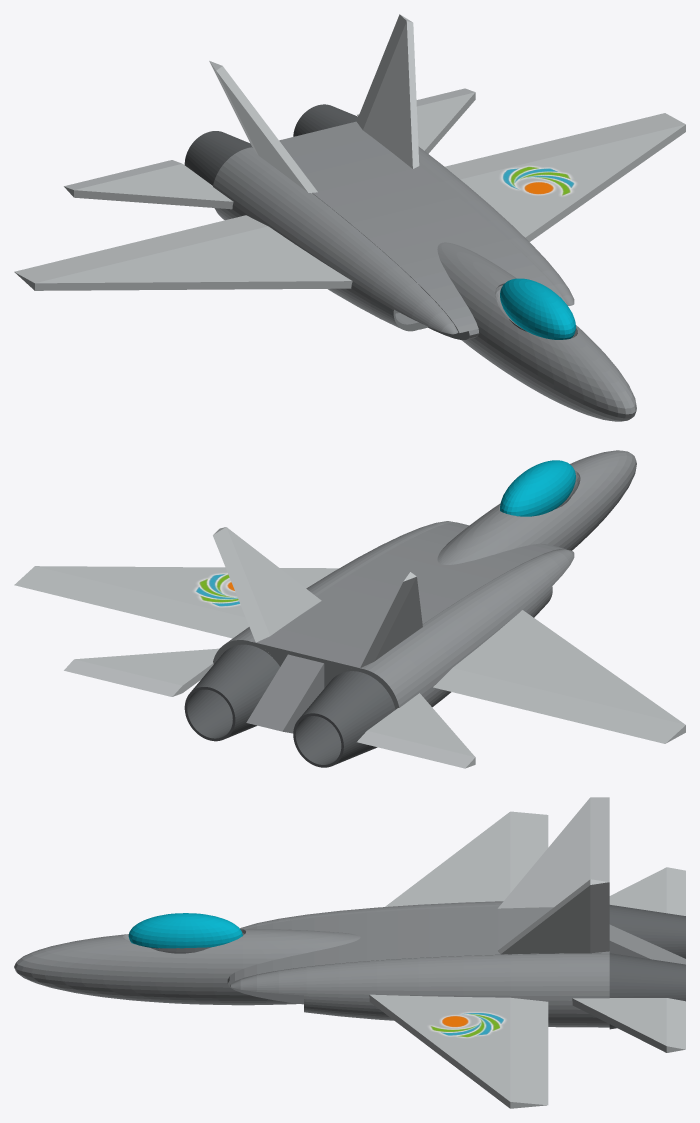
3 renders of one model, top to bottom at view 1: azimuth 30°, elevation 25°; view 2: azimuth 150°, elevation 25°; view 3: azimuth 270°, elevation 25°, orthographic. The views are drawn at different scales.
Parts seen in each view (by area): view 1: Mesh_Mesh_head_geo.001_lambert2SG.001, Yongkang_District_Fusing_Elementary_School_logo; view 2: Mesh_Mesh_head_geo.001_lambert2SG.001, Yongkang_District_Fusing_Elementary_School_logo; view 3: Mesh_Mesh_head_geo.001_lambert2SG.001, Yongkang_District_Fusing_Elementary_School_logo.
Part boxes in pixels (x1,y1,x2,y2): Mesh_Mesh_head_geo.001_lambert2SG.001: (14, 14, 685, 421); Yongkang_District_Fusing_Elementary_School_logo: (500, 165, 576, 196); Mesh_Mesh_head_geo.001_lambert2SG.001: (14, 450, 685, 768); Yongkang_District_Fusing_Elementary_School_logo: (193, 573, 240, 607); Mesh_Mesh_head_geo.001_lambert2SG.001: (14, 797, 685, 1108); Yongkang_District_Fusing_Elementary_School_logo: (428, 1012, 506, 1038).
Bounding box in the file's own units: 180 × 47.01 × 176.
Materials: 2 (1 with a texture image).
